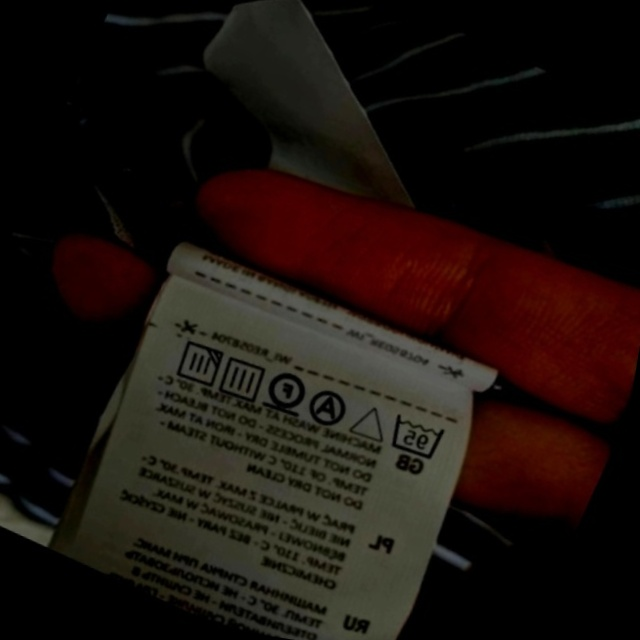95C: (366, 389, 466, 483)
bleach: (333, 382, 409, 461)
drip_dry: (199, 335, 286, 422)
drip_dry_in_shade: (152, 318, 243, 408)
dry_clean: (290, 370, 367, 446)
dry_clean_petrol_only: (244, 347, 329, 435)
